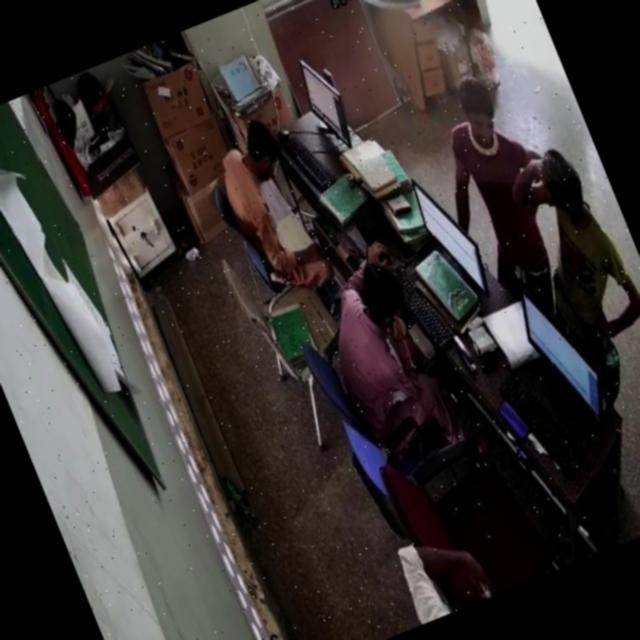person: (427, 73, 571, 292), (304, 257, 452, 460), (510, 157, 640, 367), (212, 130, 326, 286)
